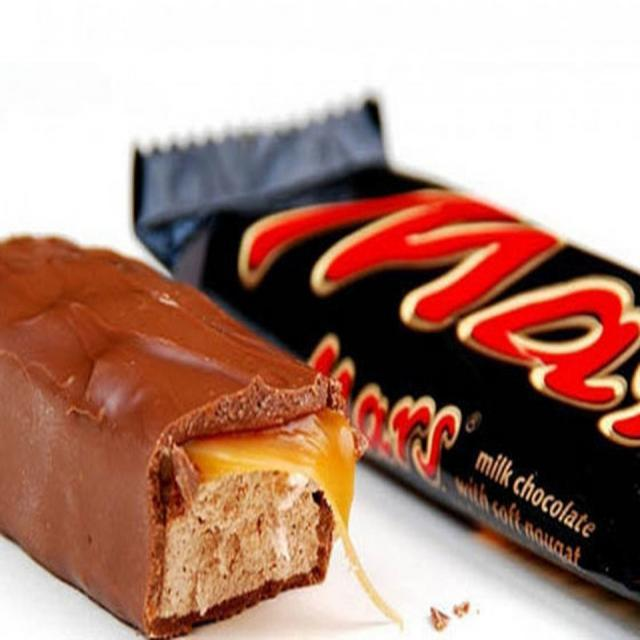Chocolate bar: (118, 86, 640, 605)
Chocolate bar packaged: (1, 233, 359, 637)
